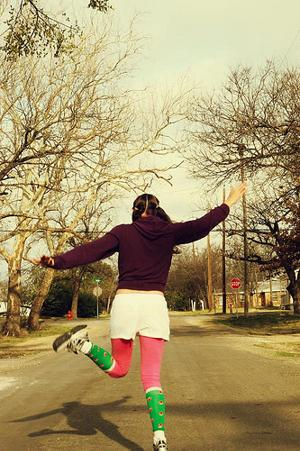person: (32, 182, 247, 449)
